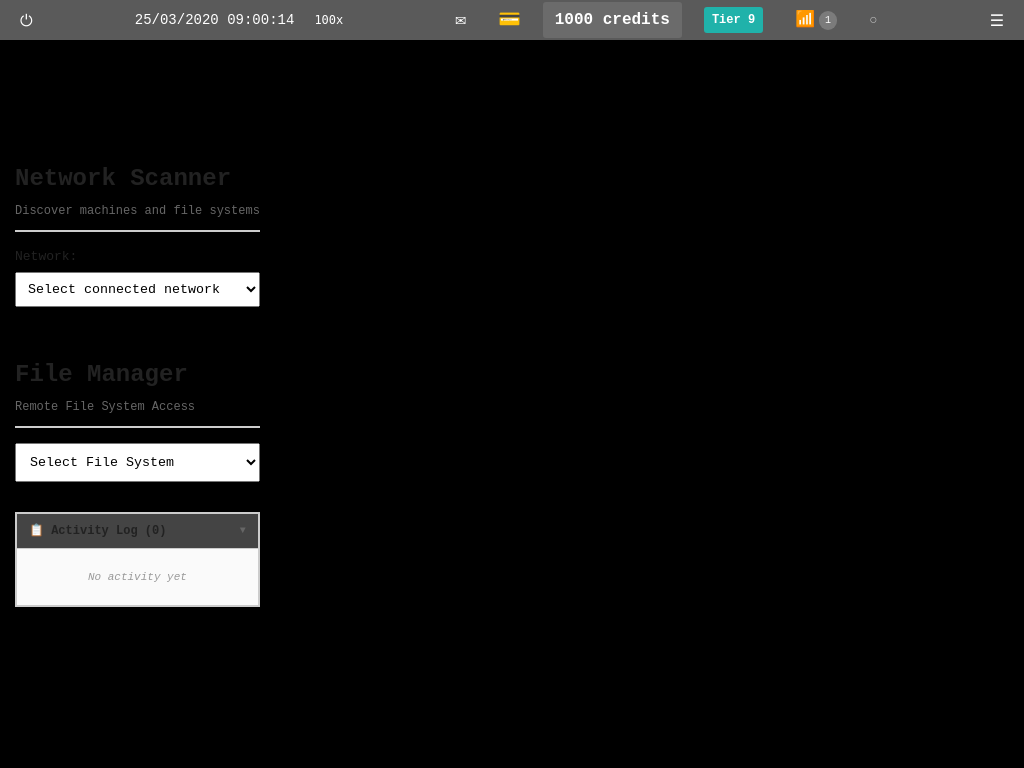
Test: File Manager - Basics › should display file systems from connected network after scanning
Expected: the text titled "Click to open Banking App" shows "credits", [593,11,670,29]
Expected: the 2nd dropdown is shown, [15,442,260,482]
Select "Corporate Network" in the dropdown labelled "Network:": (137, 289) [15,272,260,306]
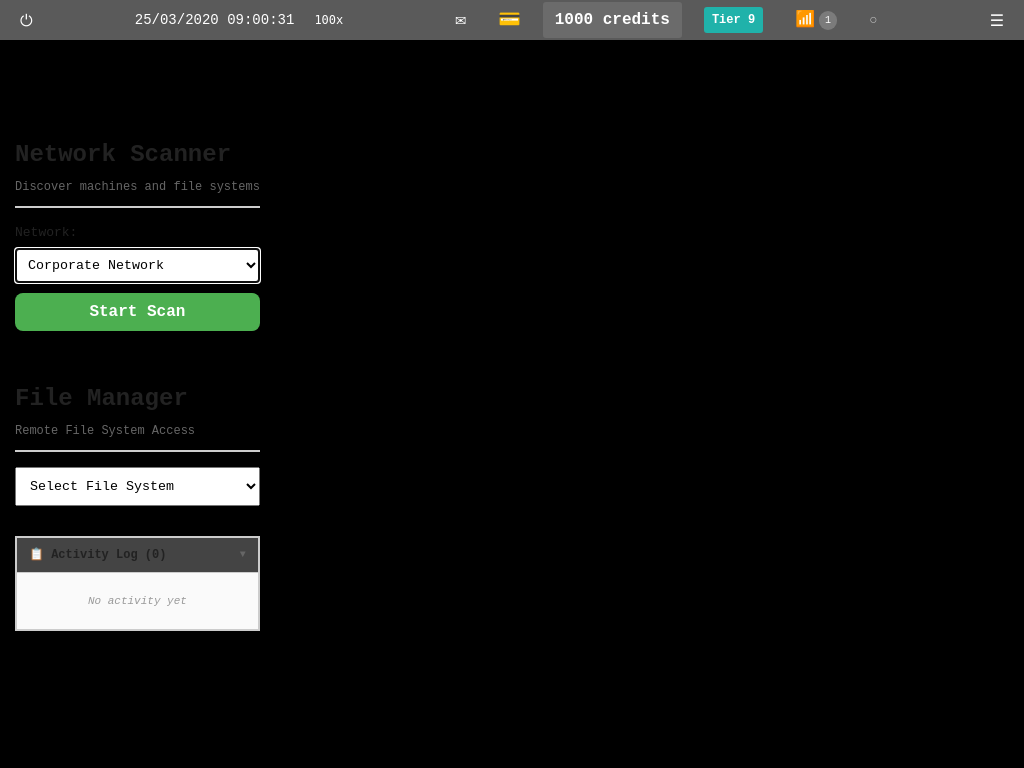
Click the button "Start Scan": (137, 312) [15,292,260,330]
(page scrolled)
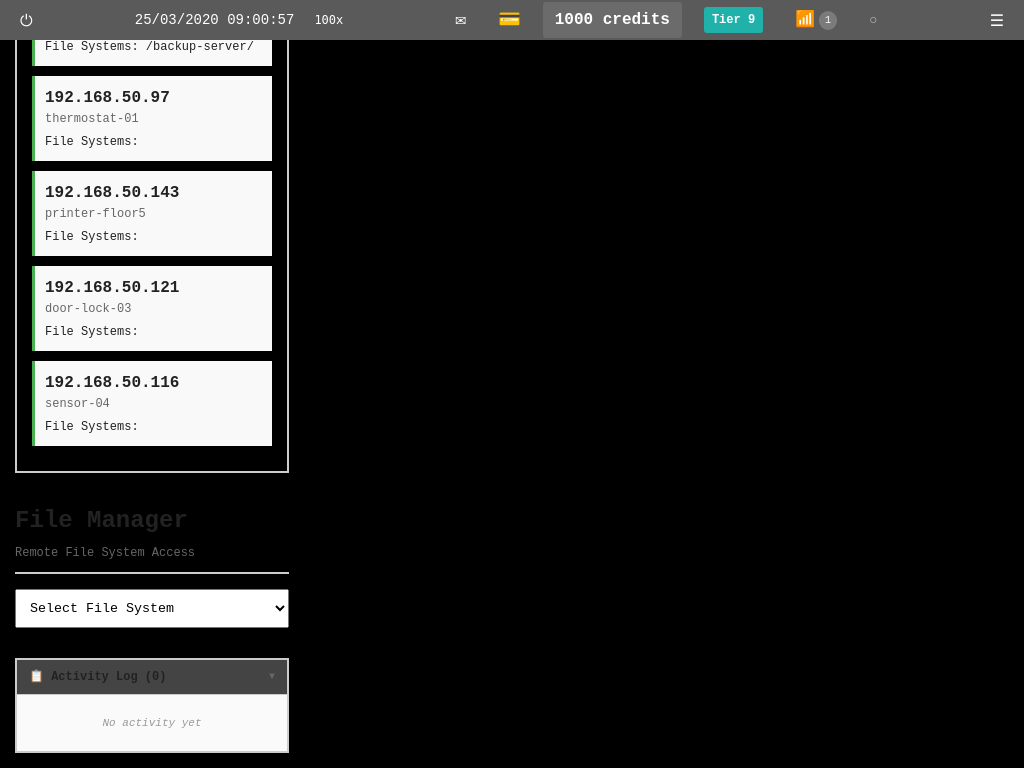
Select "192.168.50.10 - fileserver-01" in the dropdown: (152, 608) [15,589,289,628]
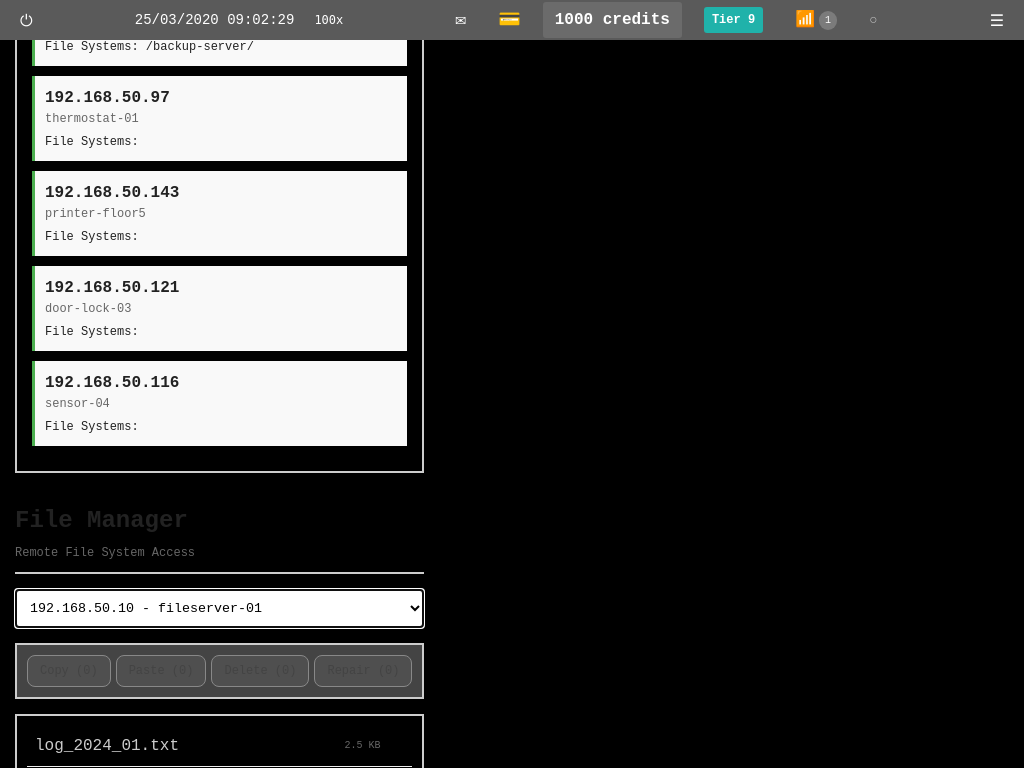
Expected: the text "log_2024_01.txt" is shown, [35,737,179,755]
Expected: the text "2.5 KB" is shown, [344,740,380,751]
